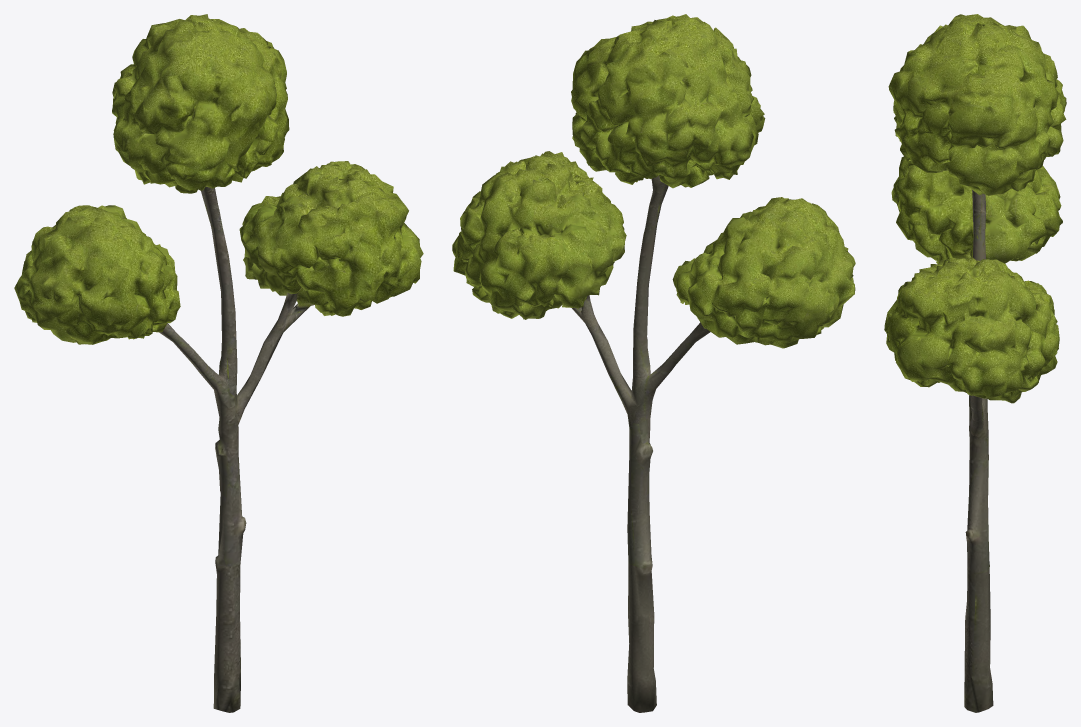
Rendered from fresno_joven_alto.glb.
The picture shows the model from 3 angles, left to right: view 1: azimuth 30°, elevation 25°; view 2: azimuth 150°, elevation 25°; view 3: azimuth 270°, elevation 25°; orthographic projection. The views are drawn at different scales.
Visible parts, largest first — view 1: alto; view 2: alto; view 3: alto.
Part boxes in pixels (box(x1,y1,x2,y2)): alto: box(14, 14, 423, 712); alto: box(452, 14, 855, 712); alto: box(884, 14, 1066, 712).
Size of the model in its own units: 2.31 by 4 by 0.9834.
1 material, 1 textured.
